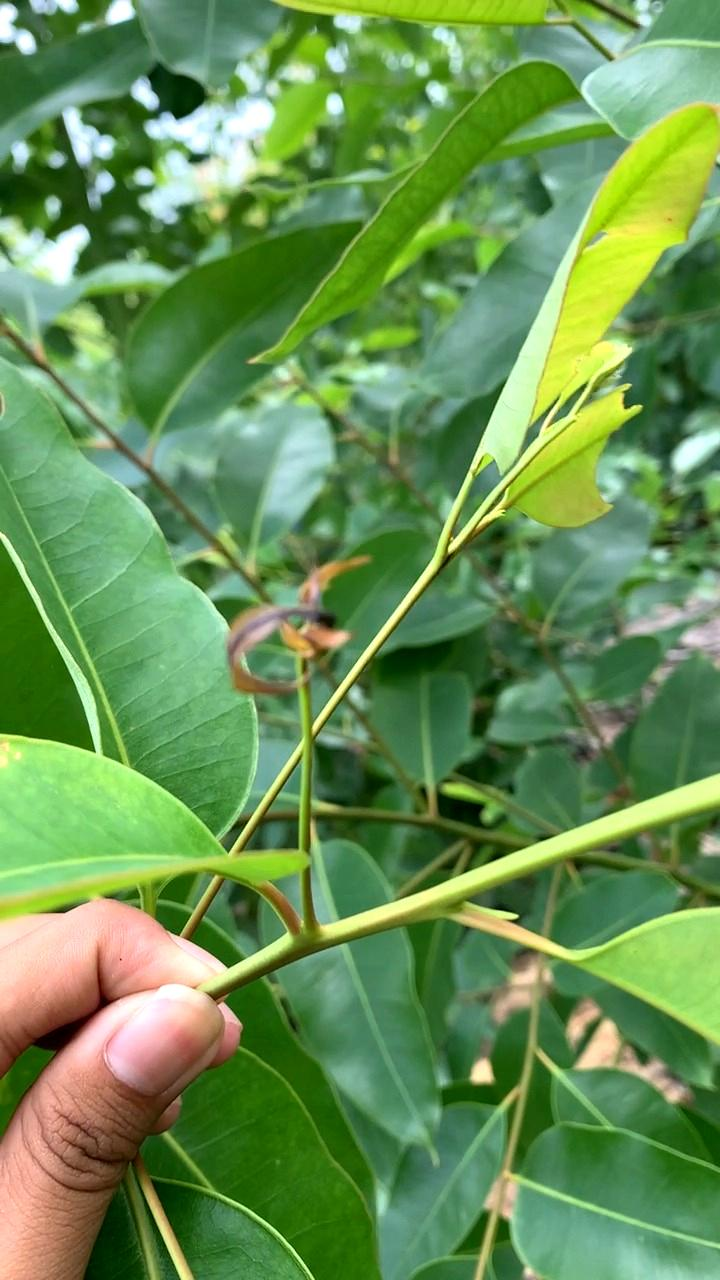Helopeltis-Withered Sprout: (198, 545, 373, 701)
